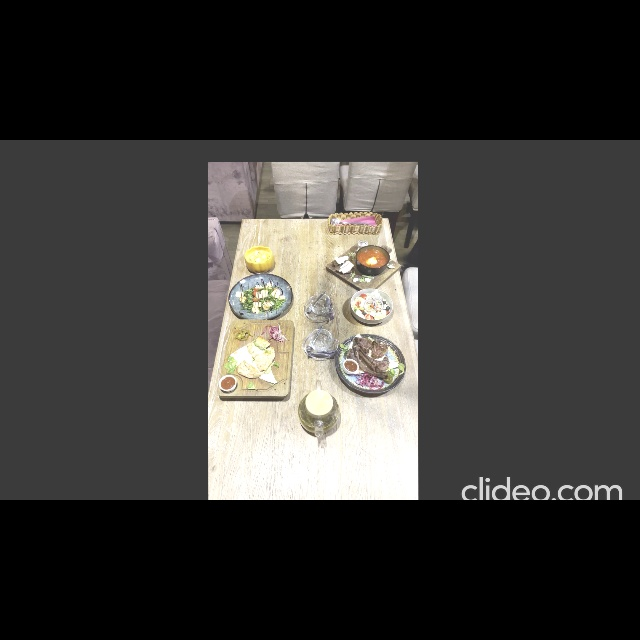Том ям: (326, 242, 402, 292)
графин с чаем: (298, 380, 340, 438)
закуска: (217, 319, 294, 399)
мясное блюдо: (335, 334, 406, 394)
салат: (228, 273, 293, 321)
салат цезарь: (350, 288, 394, 325)
суп сырный: (245, 246, 274, 273)
